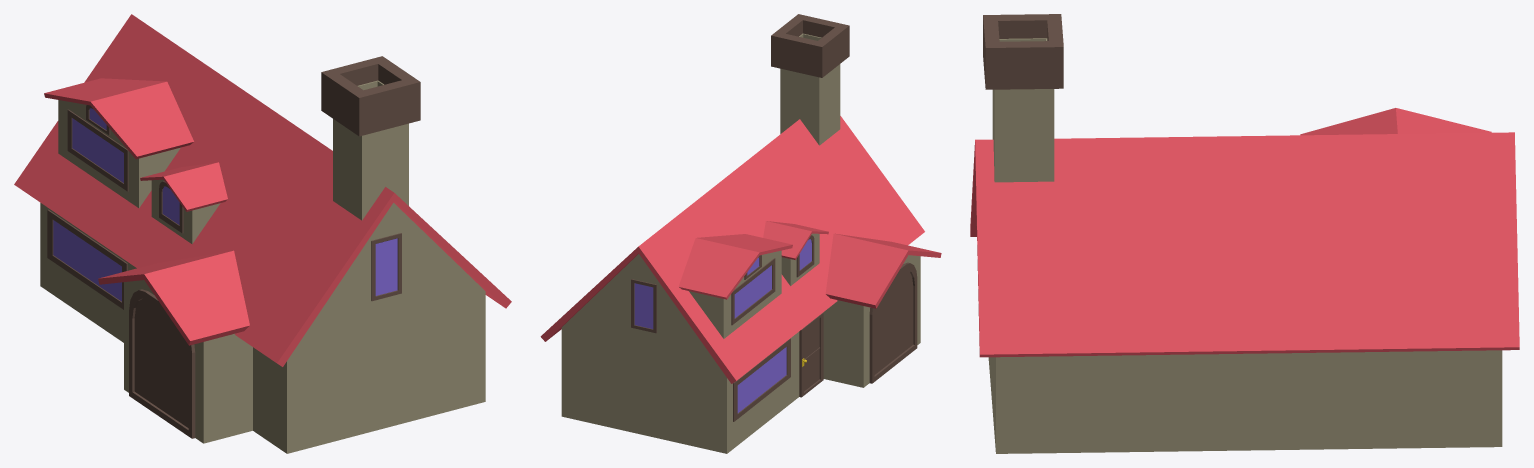
The model's file is CALLE4_CASA1_033.fbx.
3 renders of one model, left to right at view 1: azimuth 30°, elevation 25°; view 2: azimuth 150°, elevation 25°; view 3: azimuth 270°, elevation 25°, orthographic. The views are drawn at different scales.
Visible parts, largest first — view 1: CASA1.033; view 2: CASA1.033; view 3: CASA1.033.
Boxes of the visible parts, left/top/right/bottom form: CASA1.033: left=14, top=14, right=511, bottom=453; CASA1.033: left=540, top=14, right=941, bottom=453; CASA1.033: left=970, top=14, right=1519, bottom=453.
Bounding box in the file's own units: 672 × 734 × 991.
